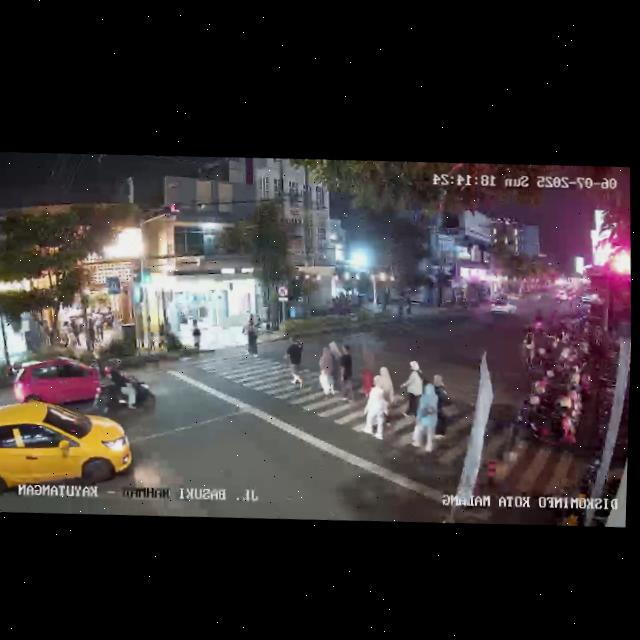car: (0, 394, 137, 514), (11, 352, 103, 410), (488, 295, 519, 319)
motorcycle: (89, 358, 158, 419)
person: (411, 382, 439, 454), (398, 359, 427, 418), (364, 374, 385, 440), (429, 374, 448, 441), (337, 340, 357, 403), (284, 335, 306, 390), (316, 346, 333, 399), (328, 338, 344, 393), (377, 366, 394, 414), (519, 324, 536, 368), (245, 322, 260, 357), (190, 319, 202, 352), (60, 319, 72, 347), (71, 317, 82, 347), (96, 312, 105, 342)
